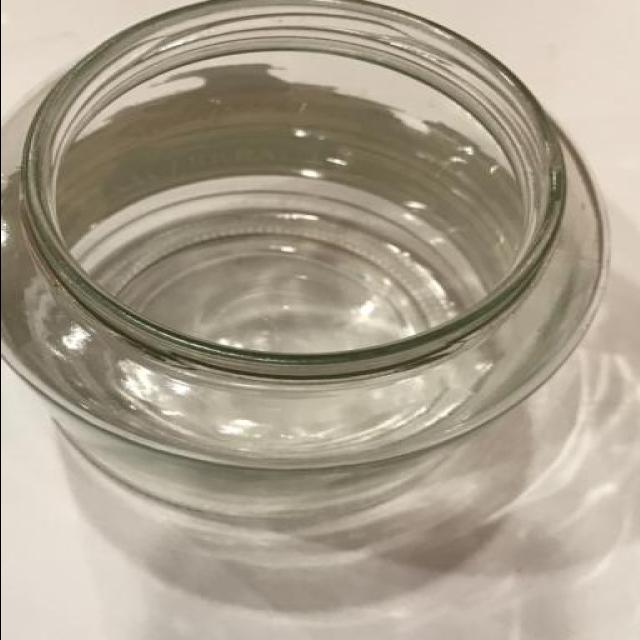glass: (0, 0, 620, 520)
